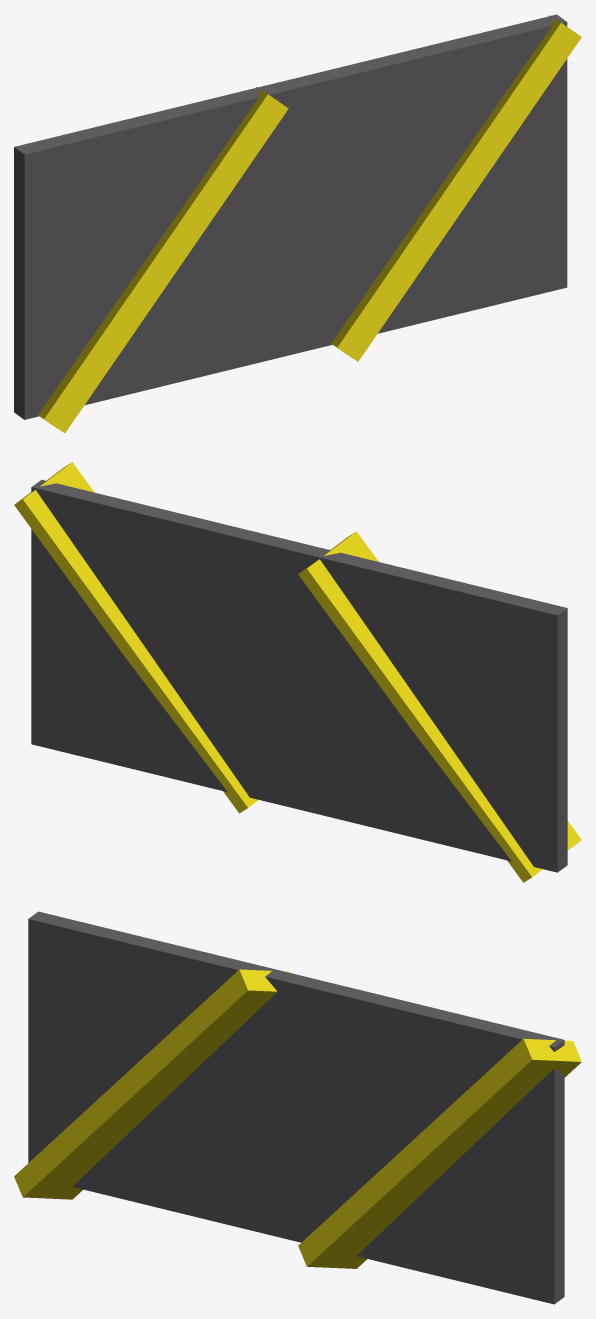
File: portao.fbx
3 renders of one model, top to bottom at view 1: azimuth 30°, elevation 25°; view 2: azimuth 150°, elevation 25°; view 3: azimuth 330°, elevation 25°, orthographic. The views are drawn at different scales.
Visible parts, largest first — view 1: Portao; view 2: Portao; view 3: Portao.
Boxes of the visible parts, <box> form: Portao: <box>14,14,581,433</box>; Portao: <box>14,462,581,882</box>; Portao: <box>14,911,581,1304</box>.
Size of the model in its own units: 671 by 344 by 86.61.
